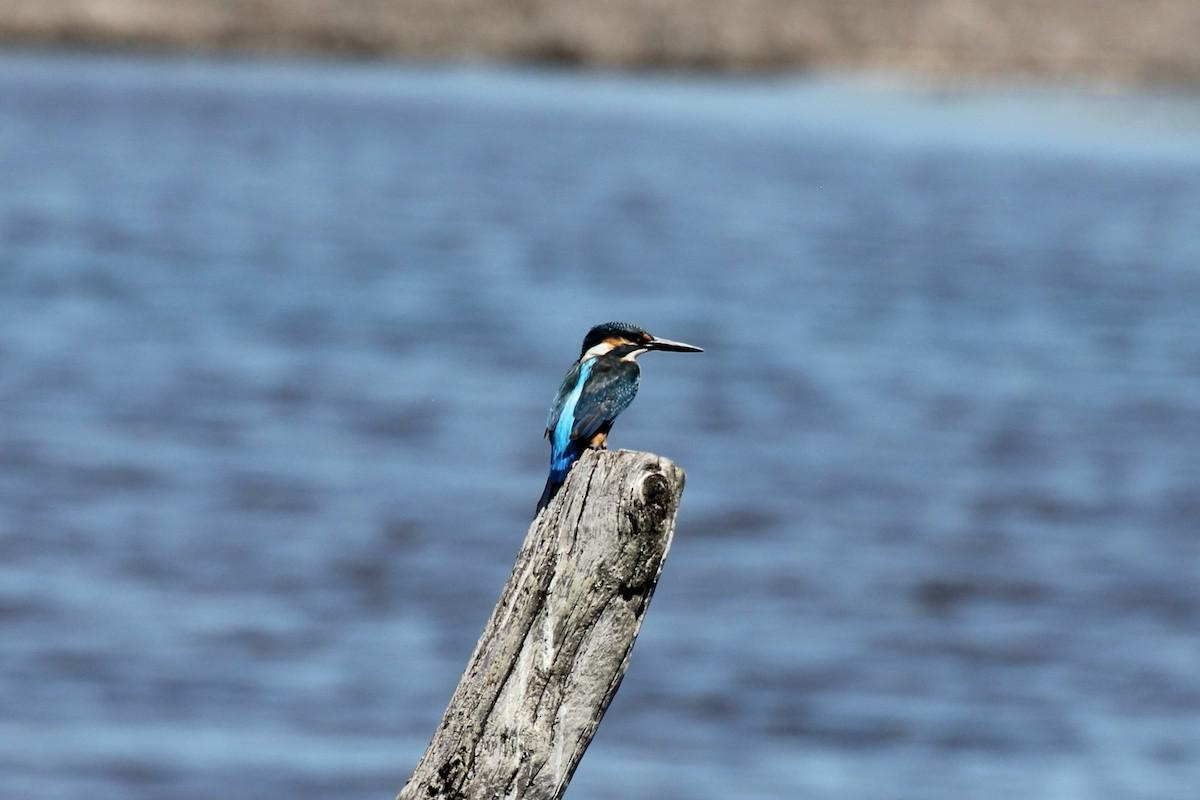kingfisher: (516, 294, 720, 481)
